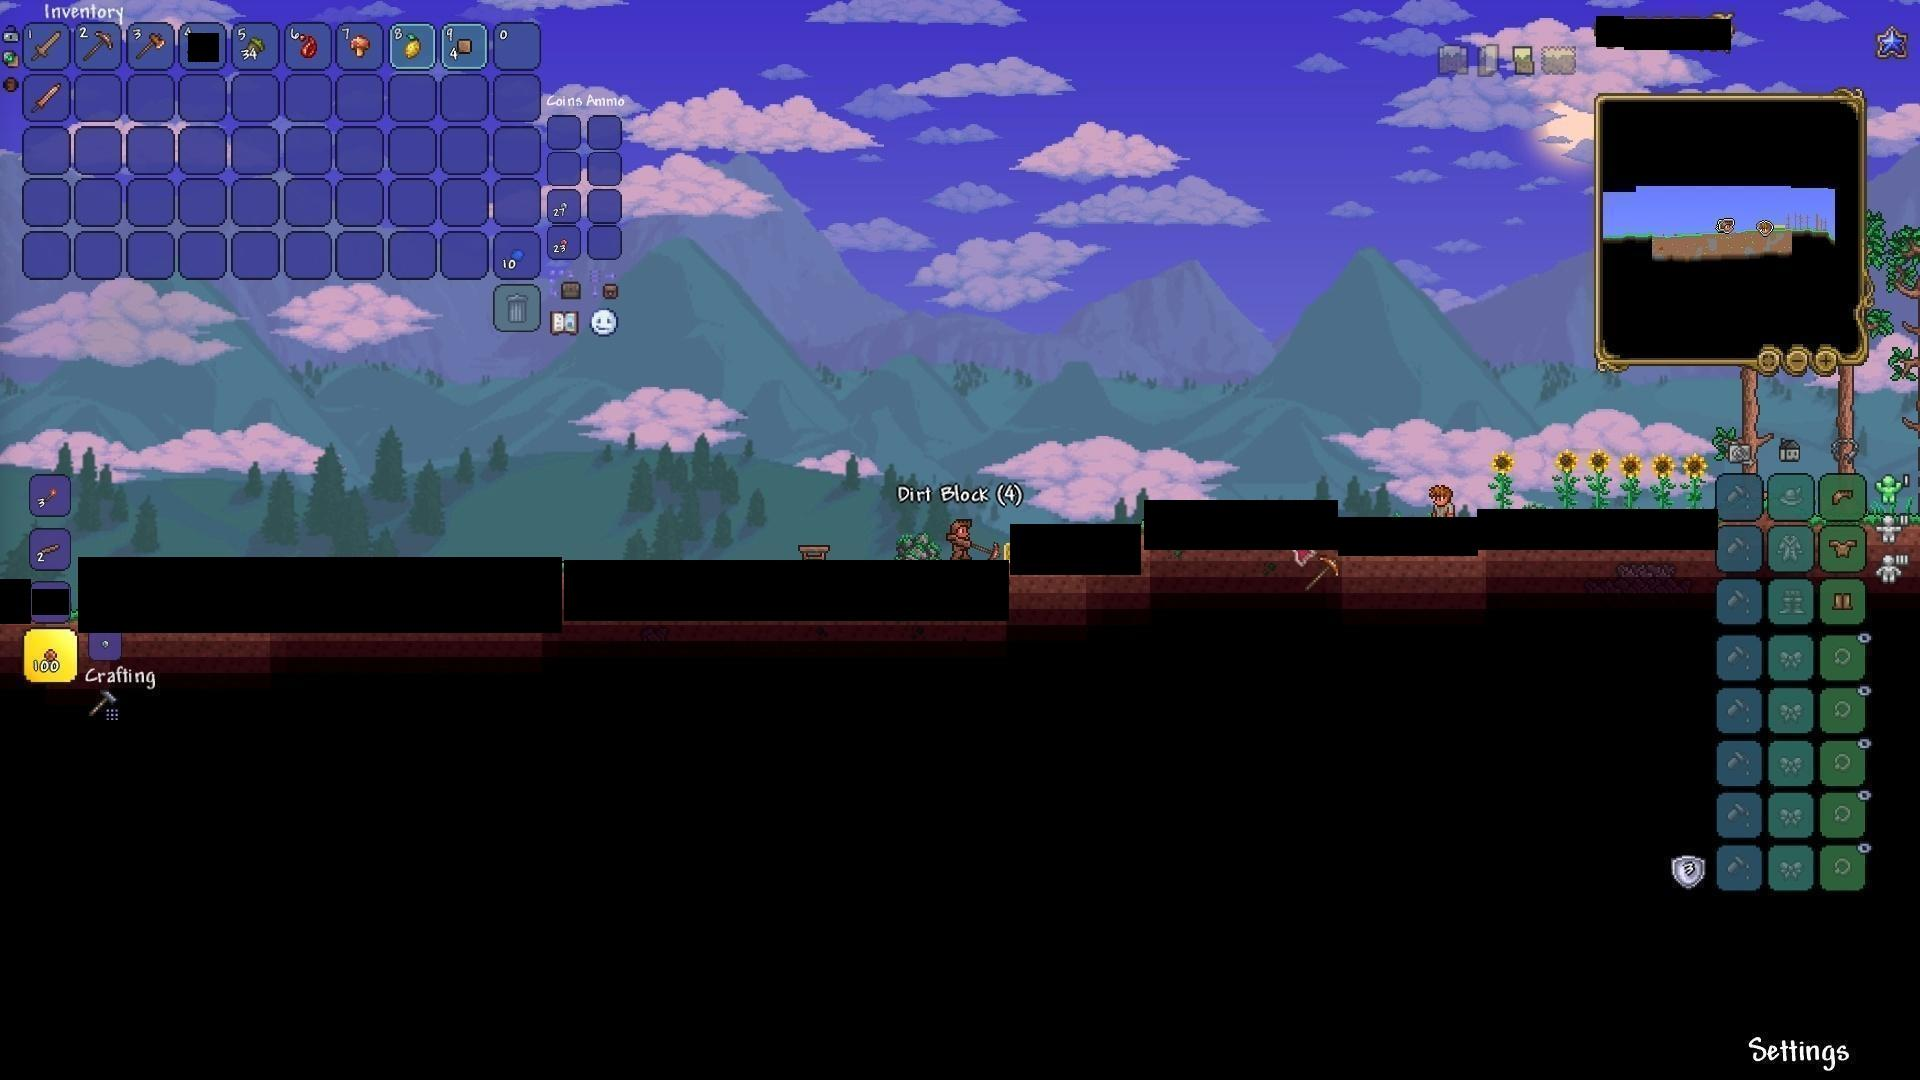breastplate: (1830, 537, 1859, 558)
helmet: (1829, 484, 1859, 510)
legs: (1830, 588, 1855, 616)
workbench: (796, 542, 833, 567)
